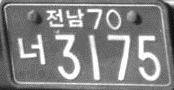0: (105, 8, 122, 30)
1: (87, 33, 101, 81)
3: (53, 33, 81, 80)
5: (137, 33, 162, 82)
7: (106, 33, 131, 80), (86, 7, 103, 29)
너: (17, 33, 46, 65)
전남_O: (44, 8, 86, 29)
